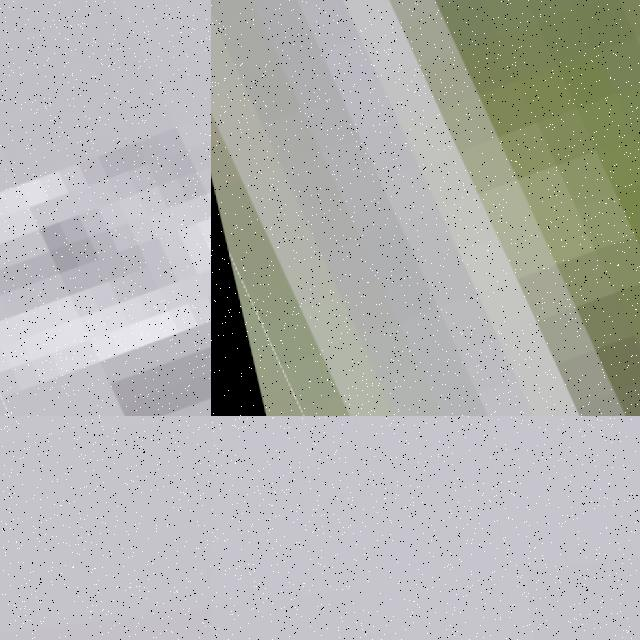0: (0, 0, 211, 416)
drone: (211, 0, 640, 416)
